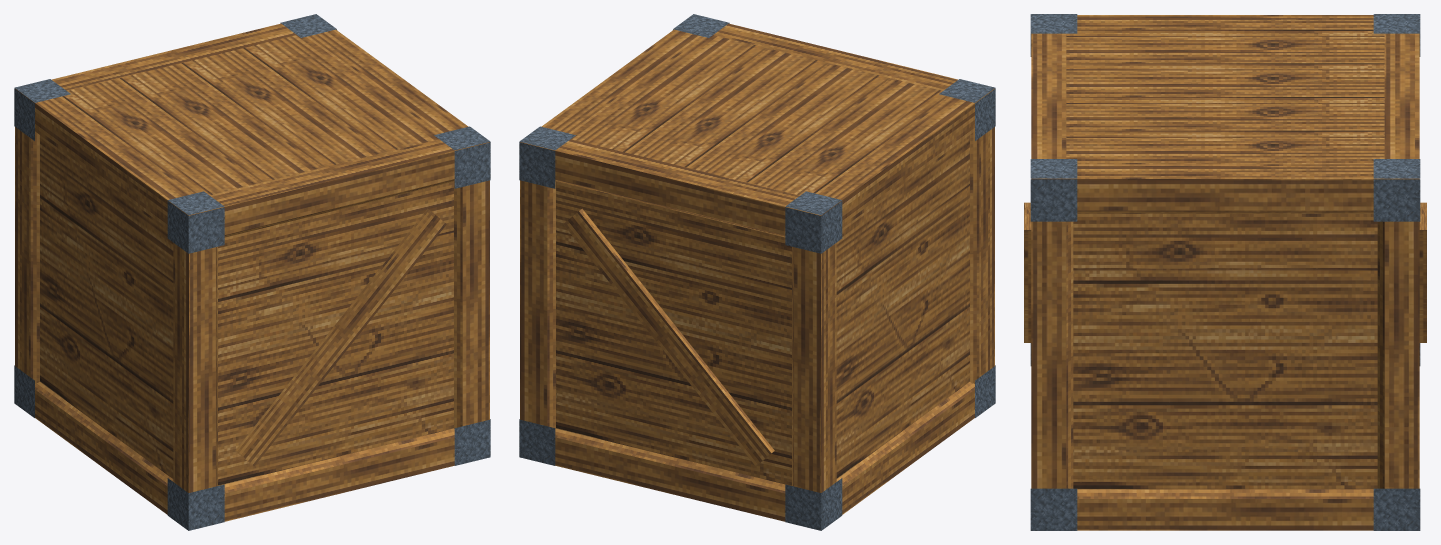
The model's file is Cassa_01_Rinforzata.obj.
3 views of the same model, side by side, from view 1: azimuth 30°, elevation 25°; view 2: azimuth 150°, elevation 25°; view 3: azimuth 270°, elevation 25° (orthographic). The views are drawn at different scales.
Visible parts, largest first — view 1: Cassa_01_Rinforzata; view 2: Cassa_01_Rinforzata; view 3: Cassa_01_Rinforzata.
Part boxes in pixels (box(x1,y1,x2,y2)): Cassa_01_Rinforzata: box(14, 14, 490, 530); Cassa_01_Rinforzata: box(519, 14, 995, 530); Cassa_01_Rinforzata: box(1024, 14, 1426, 530).
Size of the model in its own units: 1 by 1 by 1.04.
